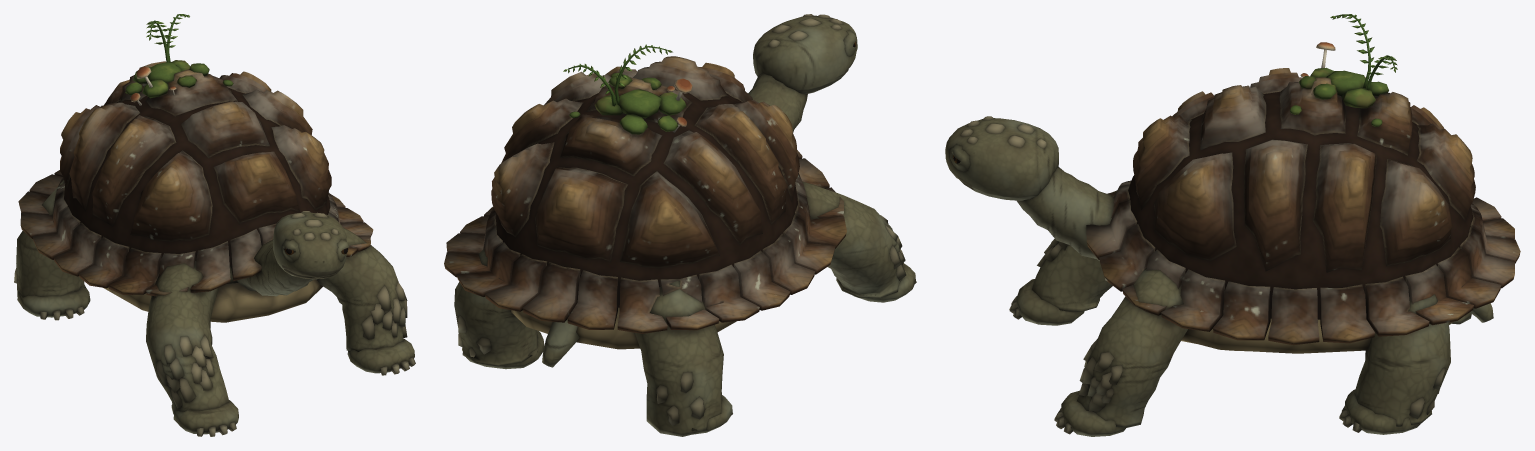
File: turtle.fbx
The picture shows the model from 3 angles, left to right: view 1: azimuth 30°, elevation 25°; view 2: azimuth 150°, elevation 25°; view 3: azimuth 270°, elevation 25°; orthographic projection. The views are drawn at different scales.
Parts seen in each view (by area): view 1: Turtle_Body; view 2: Turtle_Body; view 3: Turtle_Body.
Boxes of the visible parts, bbox=[...] form: Turtle_Body: bbox=[14, 14, 415, 436]; Turtle_Body: bbox=[444, 14, 916, 436]; Turtle_Body: bbox=[945, 14, 1520, 436].
Size of the model in its own units: 2.85 by 2.85 by 4.35.
2 materials, 1 textured.
